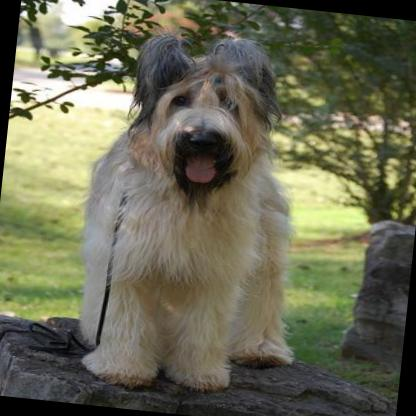briard: (67, 24, 324, 402)
